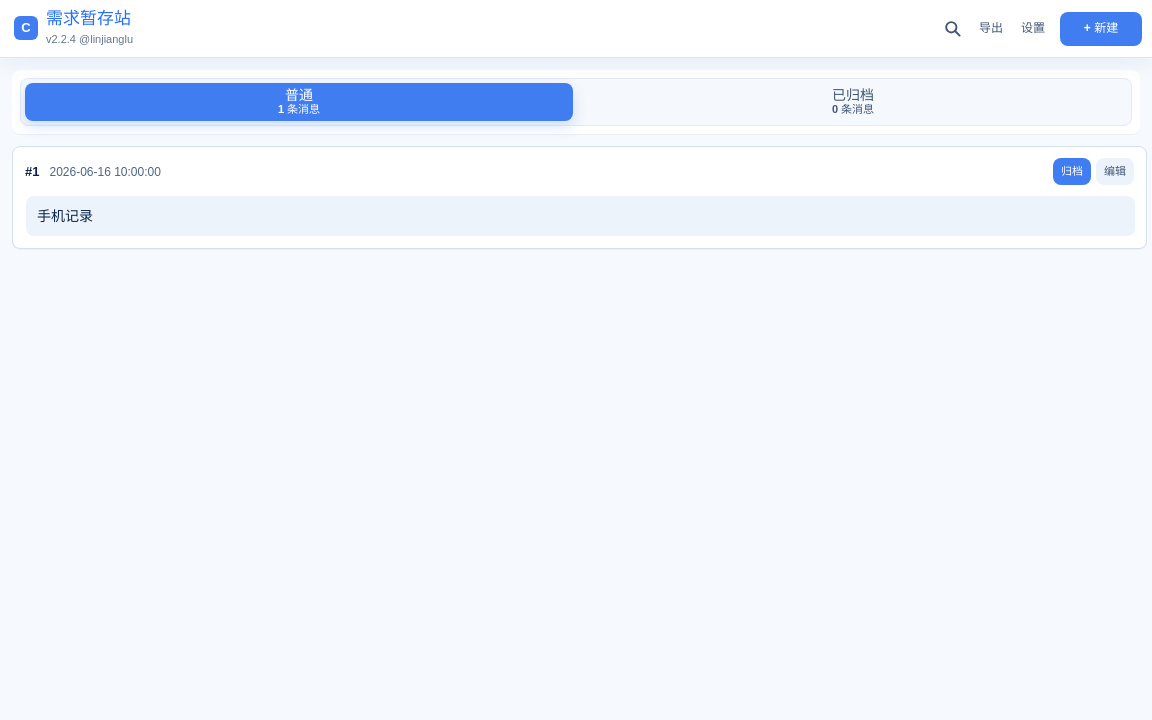
Test: android shell › opens the exported zip path when android file sharing is unavailable
Click the button "导出". click: (991, 28)
box: [972,14,1010,44]
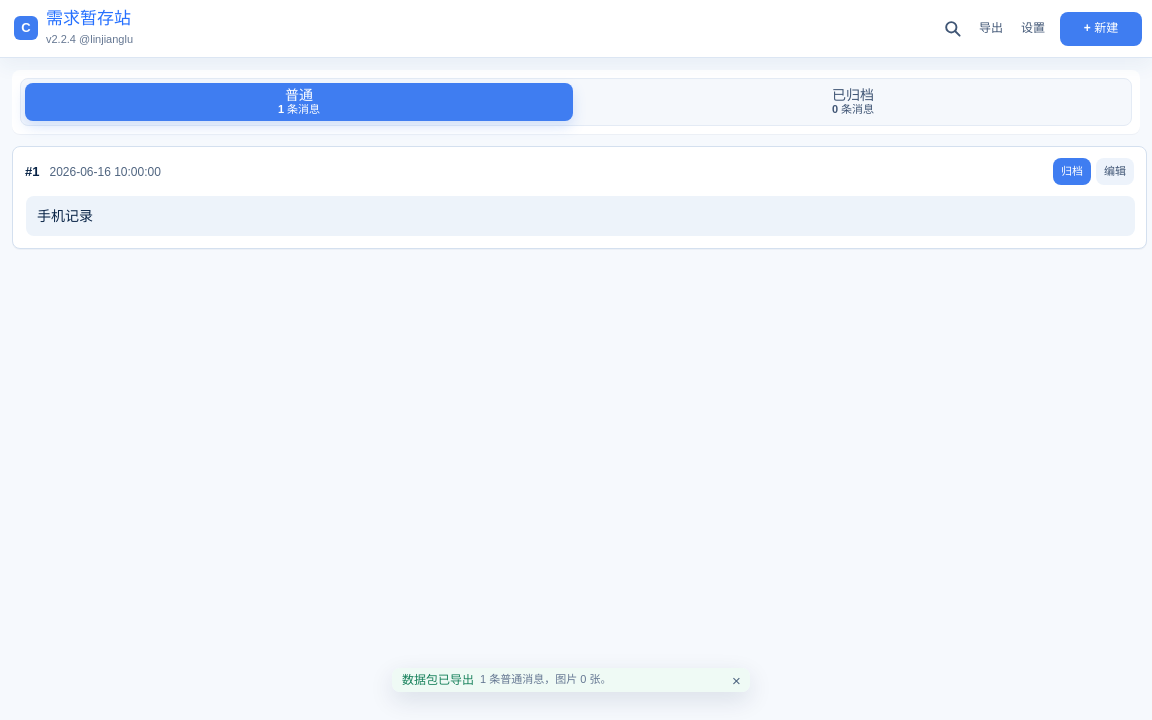
Expected: the text "数据包已导出" is shown, [402,673,474,687]
